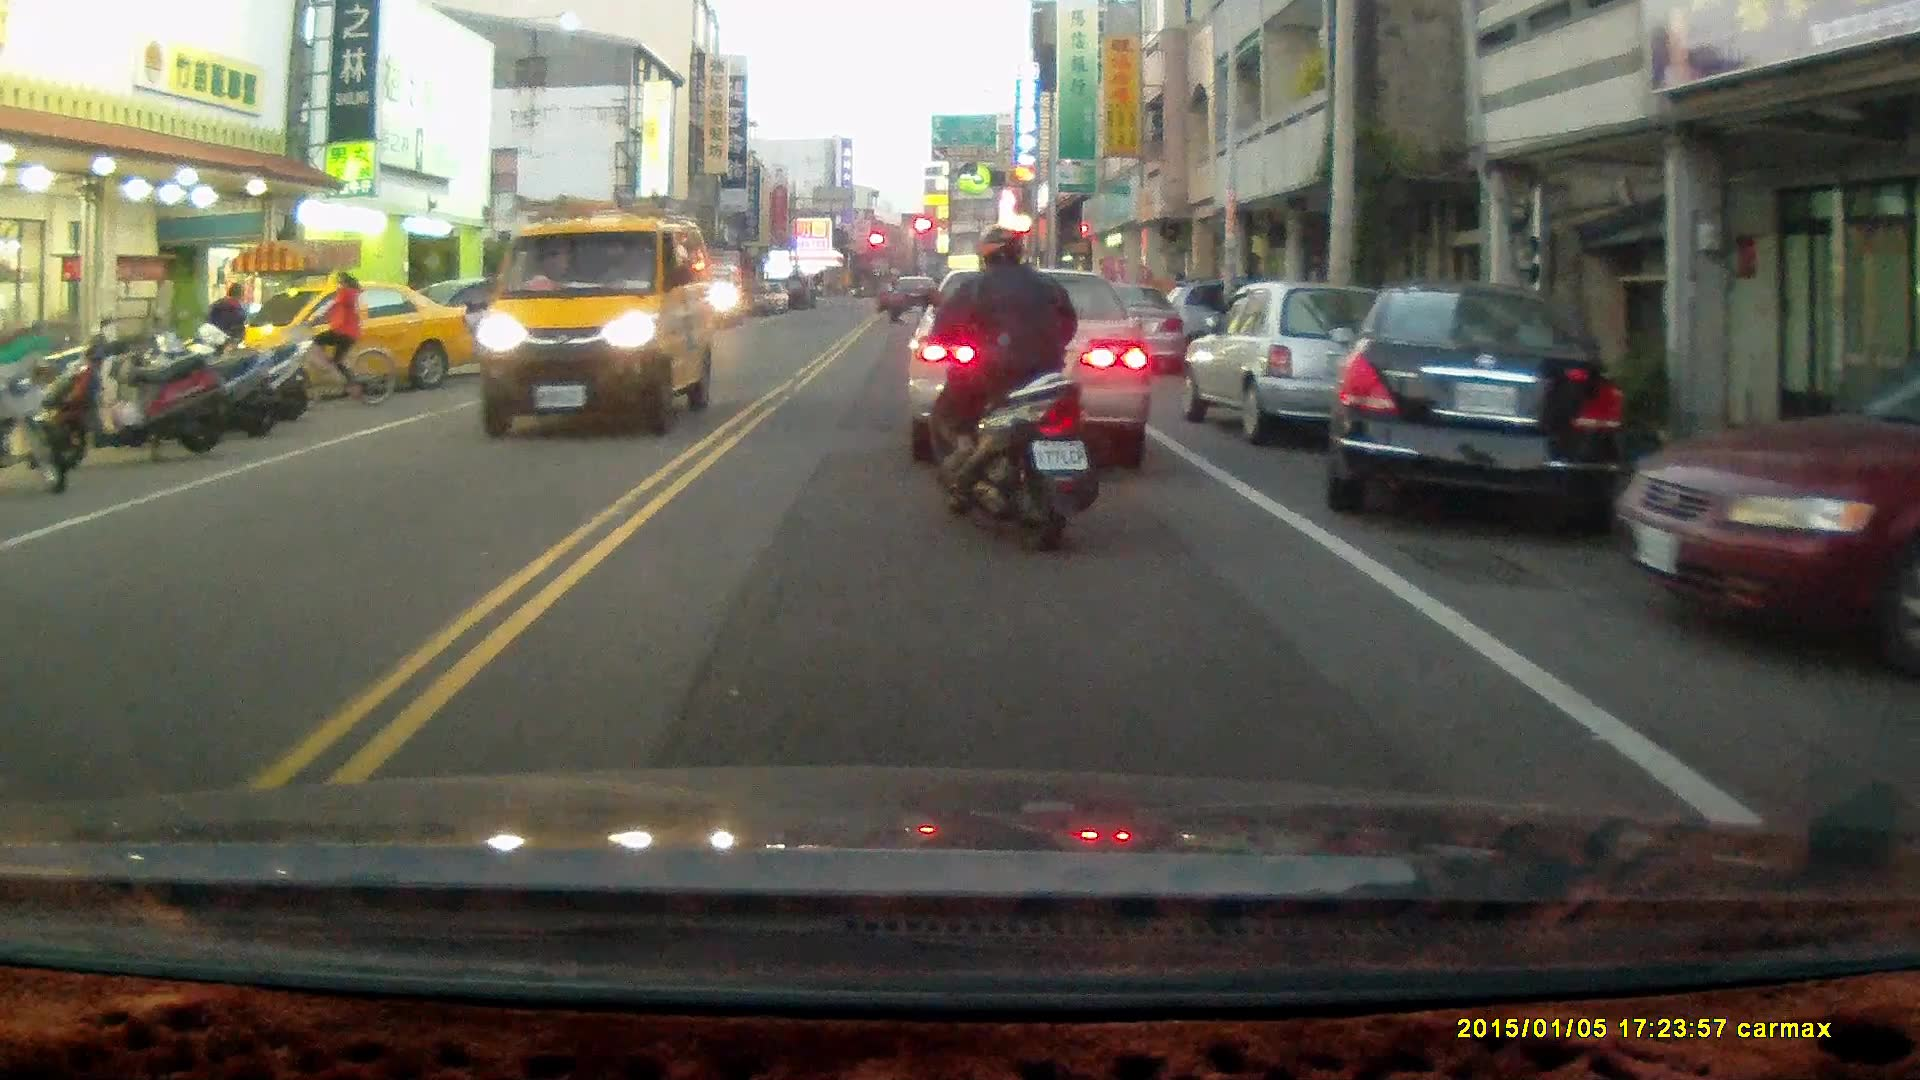pedestrian: (203, 283, 248, 384)
rider: (920, 222, 1098, 555), (282, 268, 392, 411)
vehicle: (1602, 342, 1920, 675), (1330, 285, 1628, 543), (475, 199, 721, 442), (911, 270, 1164, 469), (1177, 277, 1424, 450), (233, 288, 479, 402), (693, 268, 746, 332)
